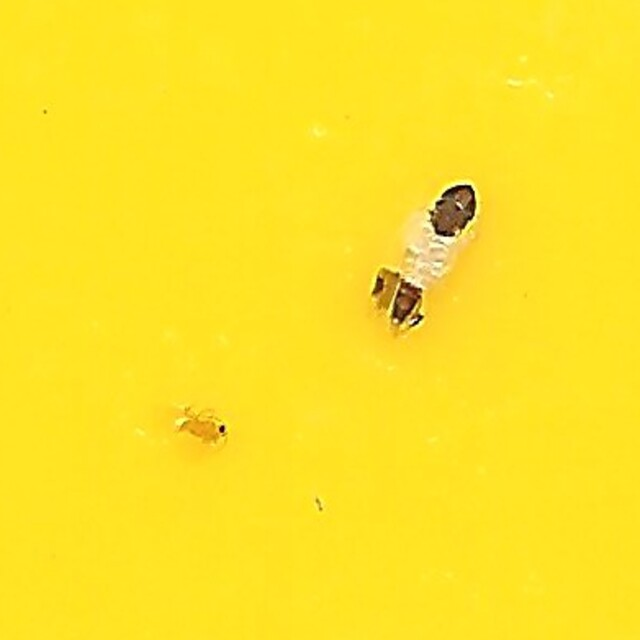Hemiptera: (365, 183, 476, 328)
Nematocera: (164, 400, 234, 457)
